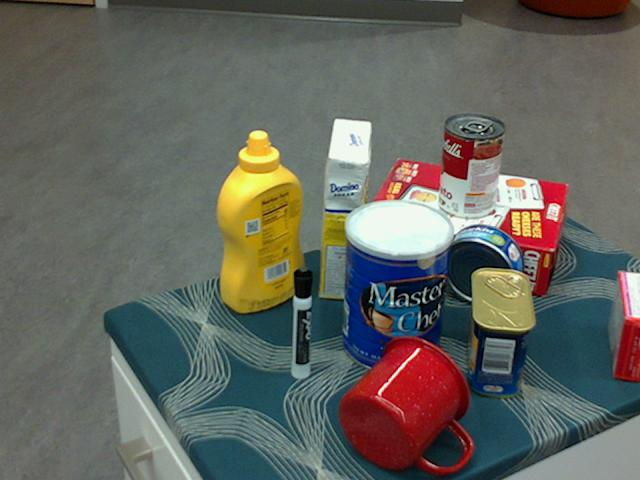cracker_box: (362, 160, 565, 292)
gelatin_box: (607, 271, 639, 382)
large_marker: (289, 266, 311, 381)
master_chef_can: (342, 199, 455, 375)
mug: (339, 335, 471, 475)
mustard_bottle: (215, 131, 304, 313)
potted_meat_can: (465, 268, 537, 397)
sugar_box: (318, 119, 371, 303)
tomato_soup_can: (439, 114, 505, 220)
tuna_fish_can: (441, 223, 525, 304)
